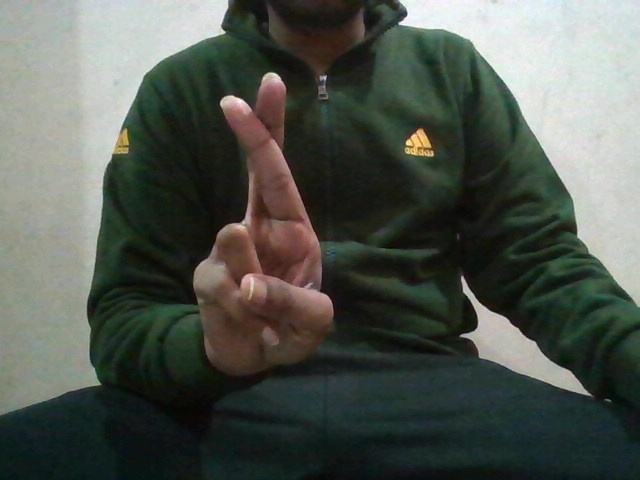R: (190, 72, 348, 374)
